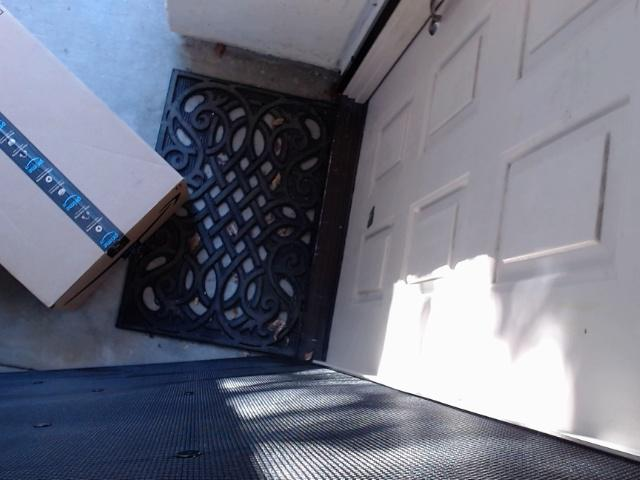box: (0, 1, 210, 338)
